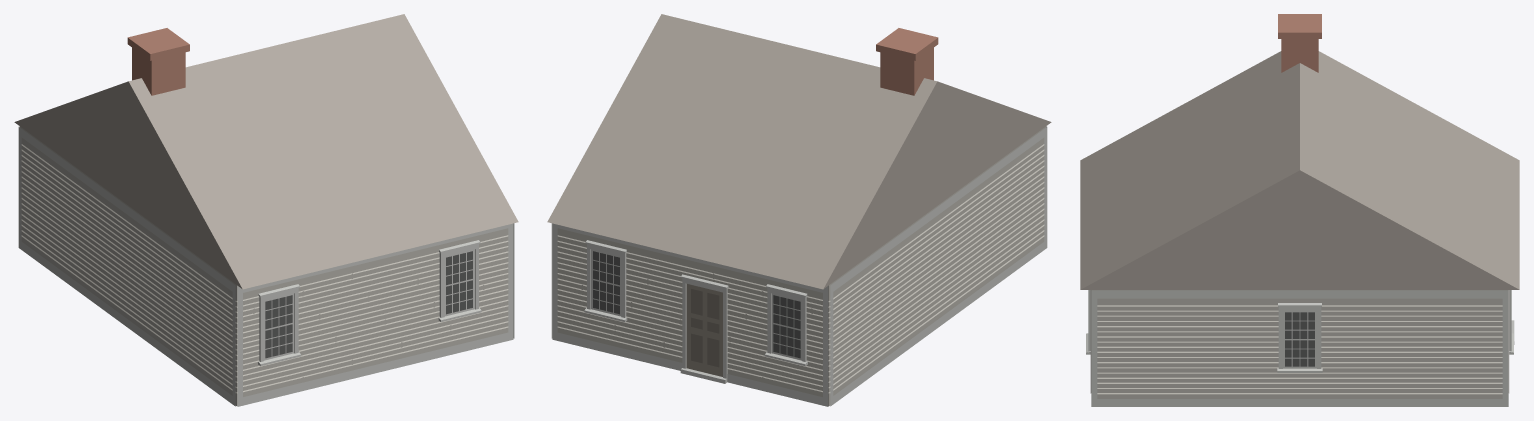
The model's file is recon_1835_blk_west_randolph_des_plaines_d5_04__inferred_1835.glb.
The picture shows the model from 3 angles, left to right: view 1: azimuth 30°, elevation 25°; view 2: azimuth 150°, elevation 25°; view 3: azimuth 270°, elevation 25°; orthographic projection. The views are drawn at different scales.
Parts seen in each view (by area): view 1: recon_1835_blk_west_randolph_des_plaines_d5_04__inferred_183; view 2: recon_1835_blk_west_randolph_des_plaines_d5_04__inferred_183; view 3: recon_1835_blk_west_randolph_des_plaines_d5_04__inferred_183.
Boxes of the visible parts, box(x1,y1,x2,y2) form: recon_1835_blk_west_randolph_des_plaines_d5_04__inferred_183: box(14, 14, 518, 406); recon_1835_blk_west_randolph_des_plaines_d5_04__inferred_183: box(547, 14, 1051, 406); recon_1835_blk_west_randolph_des_plaines_d5_04__inferred_183: box(1080, 14, 1519, 406).
Bounding box in the file's own units: 6.99 × 6.6 × 9.81.
